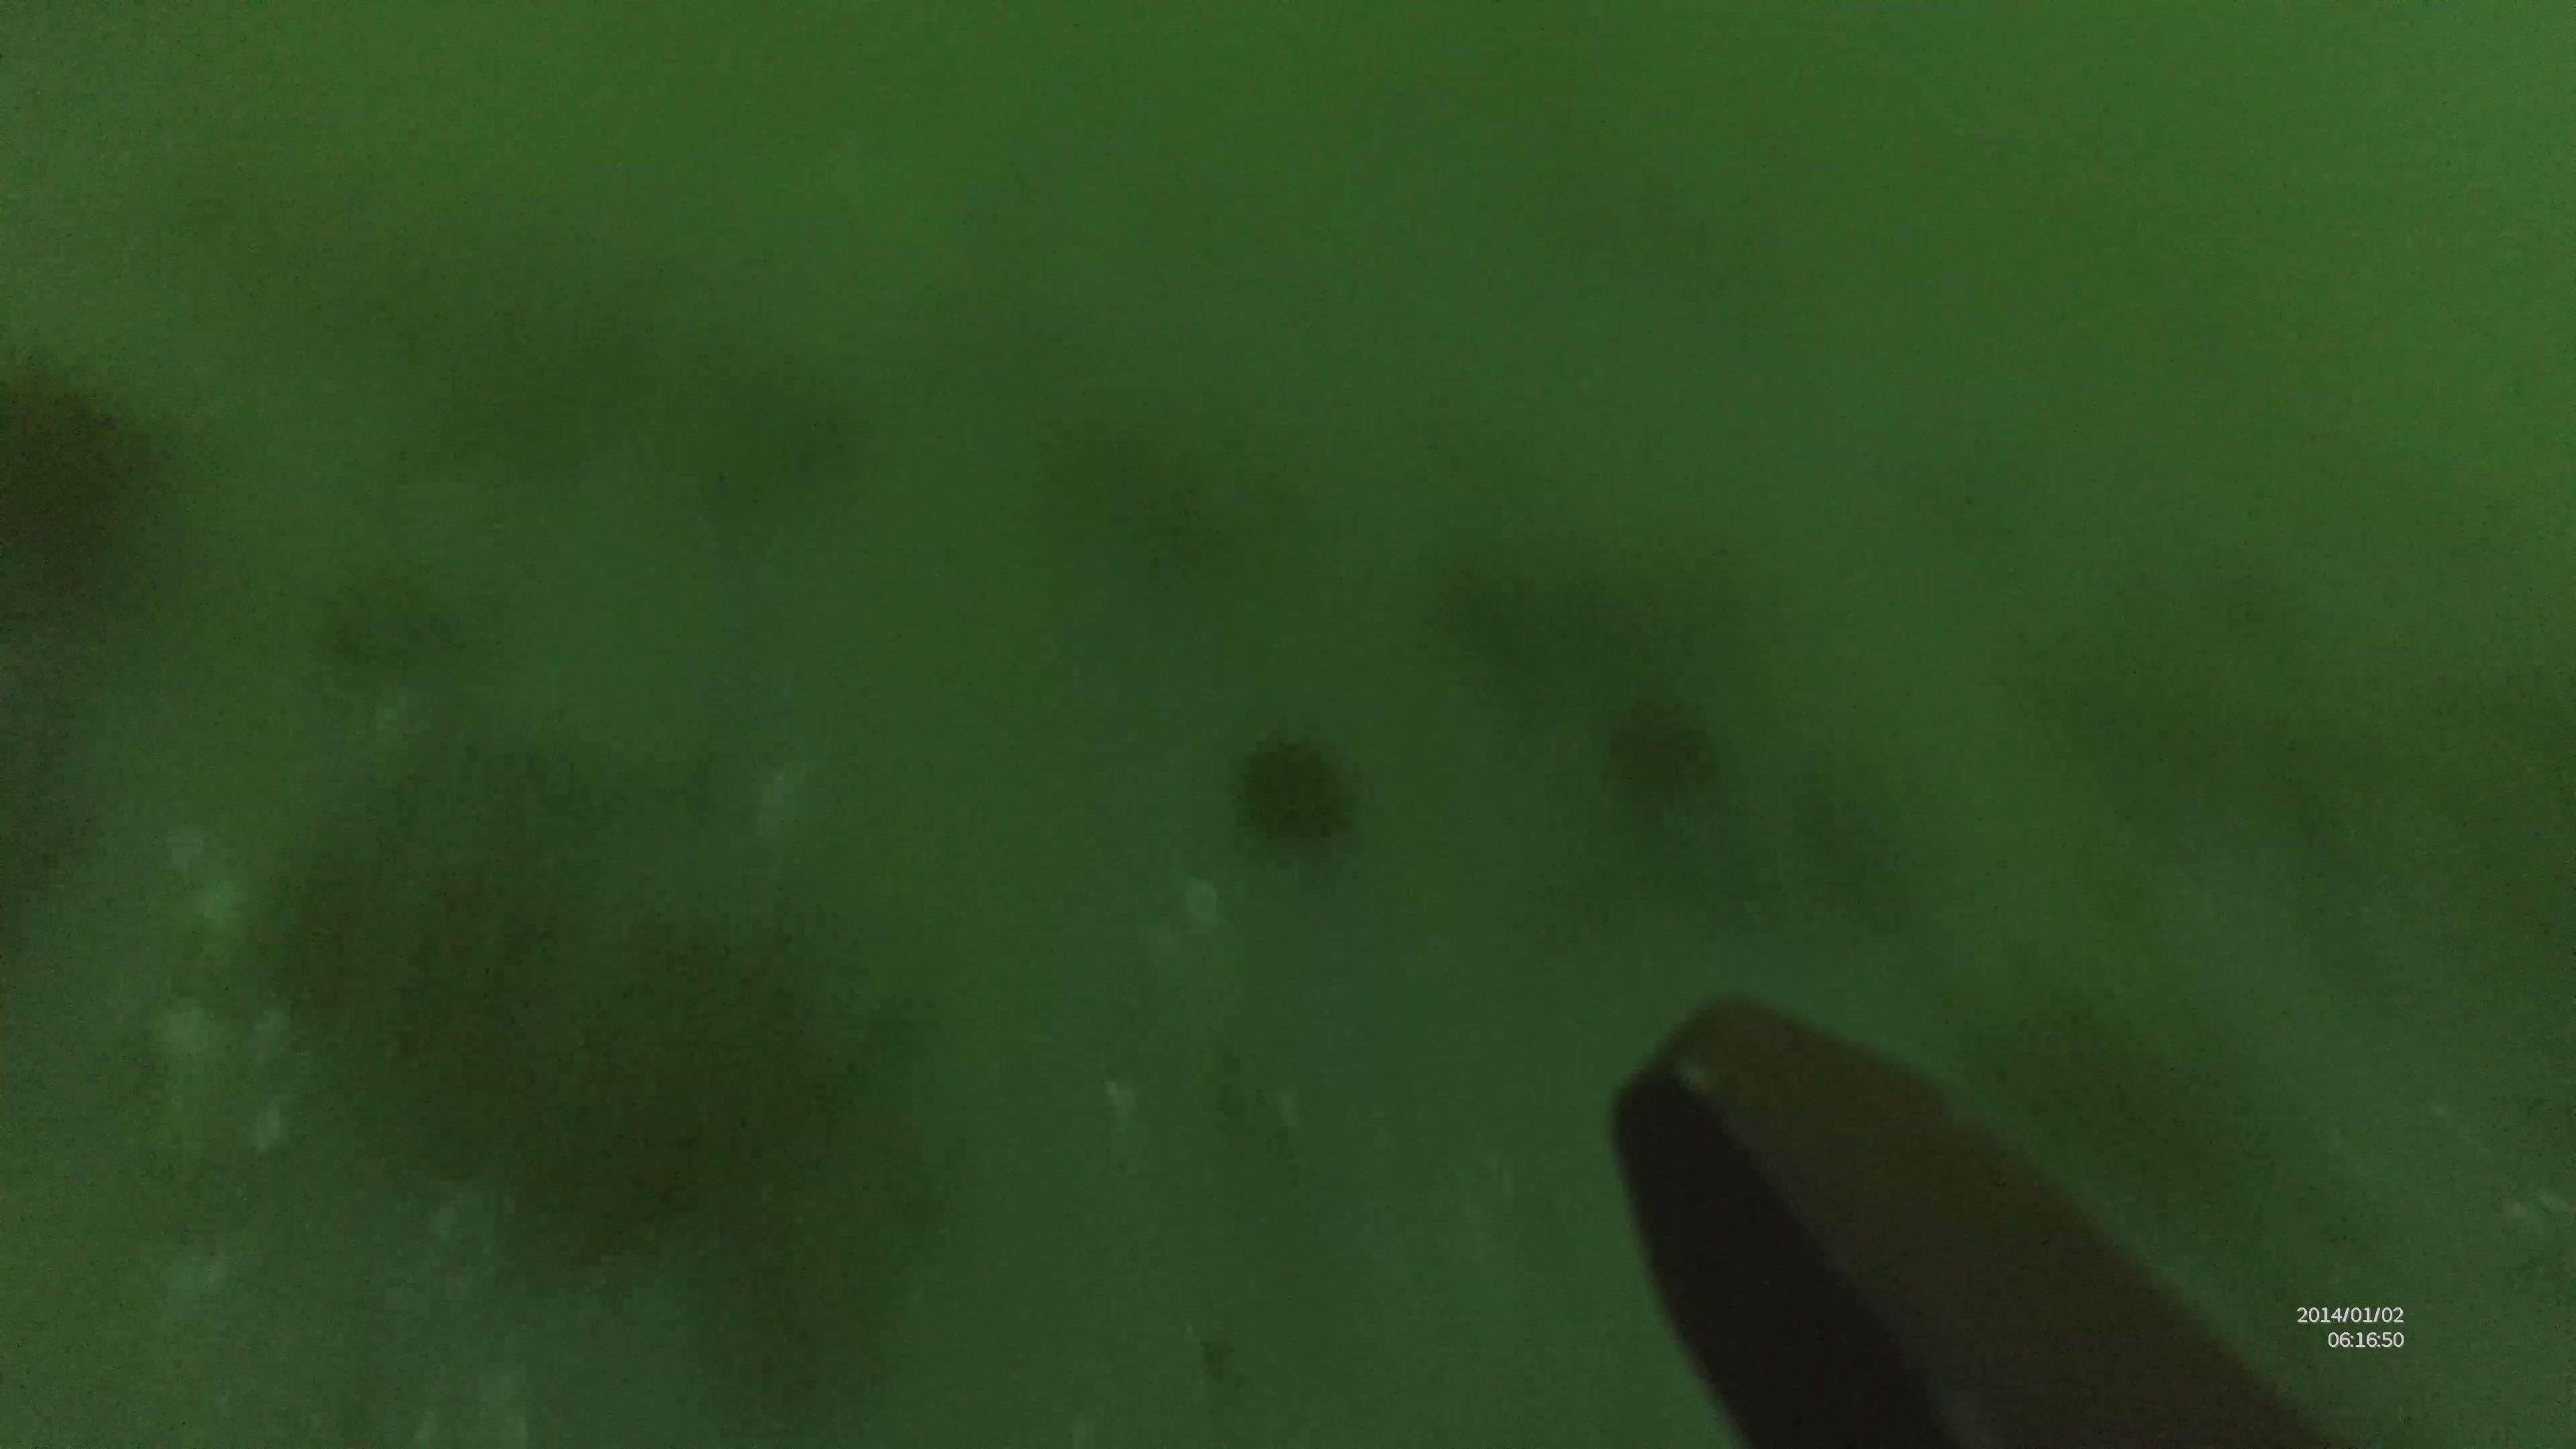echinus: (1224, 727, 1359, 856)
